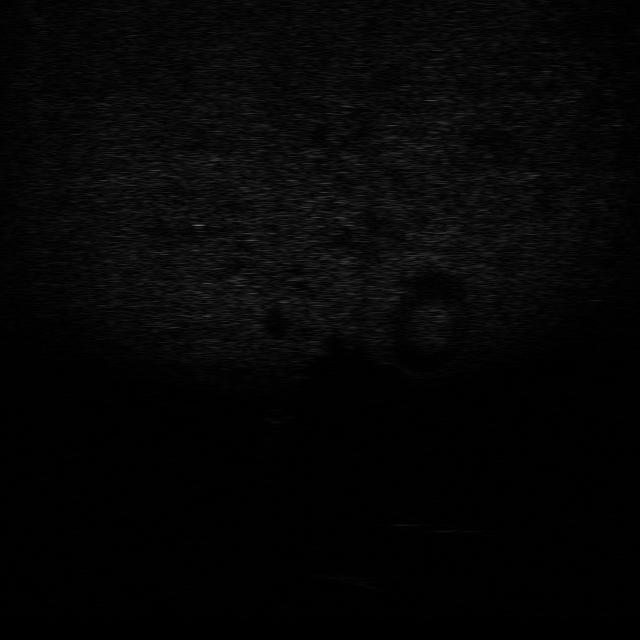ball: (258, 406, 292, 426)
metal bucket: (316, 569, 386, 593)
tyre: (390, 516, 485, 539)
